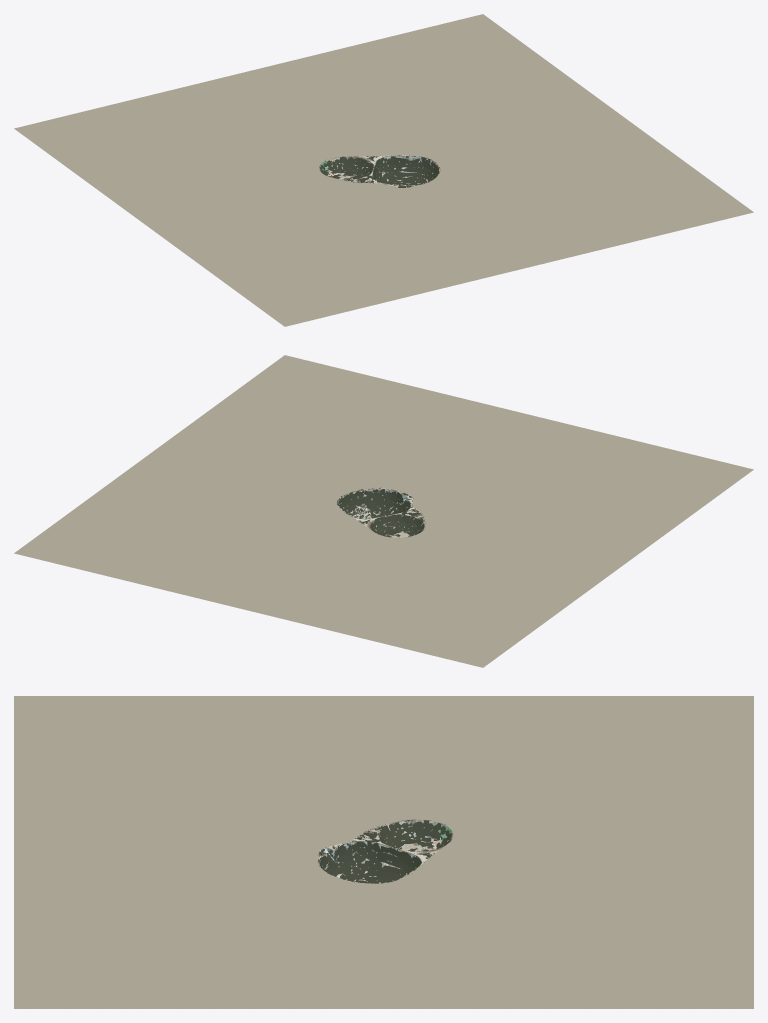
File: pool.glb
3 views of the same model, one above another, from view 1: azimuth 30°, elevation 25°; view 2: azimuth 150°, elevation 25°; view 3: azimuth 270°, elevation 25° (orthographic). The views are drawn at different scales.
Parts seen in each view (by area): view 1: COL_Ground, COL_Pool; view 2: COL_Ground, COL_Pool; view 3: COL_Ground, COL_Pool, ENV_Concrete_ground@q#0, ENV_Scan_arpex@q033333#2.
Boxes of the visible parts, bbox=[...] form: COL_Ground: bbox=[14, 14, 753, 326]; COL_Pool: bbox=[319, 155, 440, 187]; COL_Ground: bbox=[14, 355, 753, 667]; COL_Pool: bbox=[337, 487, 425, 537]; COL_Ground: bbox=[14, 696, 753, 1008]; COL_Pool: bbox=[318, 819, 452, 883]; ENV_Concrete_ground@q#0: bbox=[14, 819, 753, 1008]; ENV_Scan_arpex@q033333#2: bbox=[384, 819, 453, 868].
Size of the model in its own units: 60 by 3.35 by 60.
Materials: 2 (2 with a texture image).
